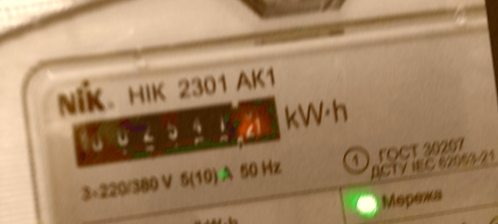0: (86, 126, 107, 154), (113, 120, 131, 148)
1: (212, 105, 229, 134)
2: (137, 116, 156, 143)
4: (189, 109, 204, 134)
5: (162, 112, 183, 142)
6: (241, 119, 258, 138)
screen: (57, 80, 298, 180)
